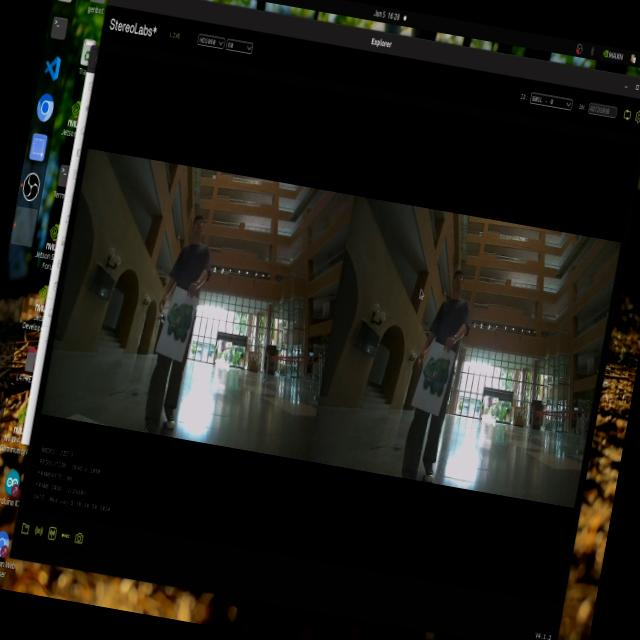green: (412, 344, 454, 406), (160, 298, 197, 344)
